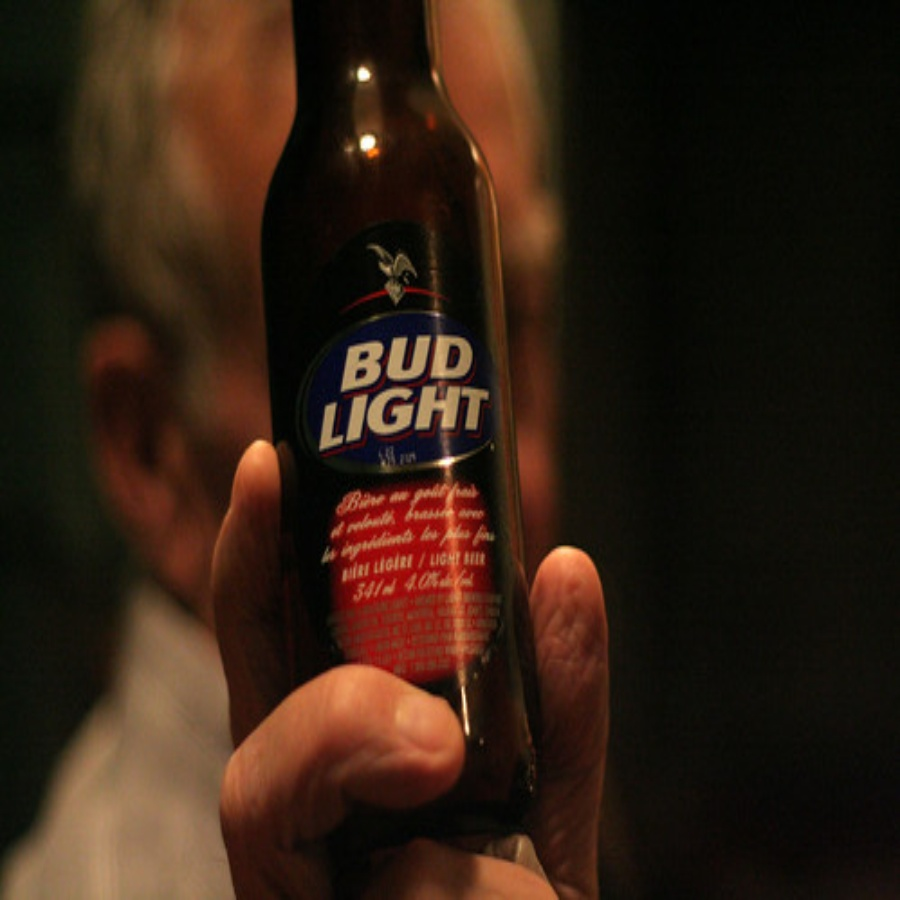beer: (202, 6, 557, 817)
